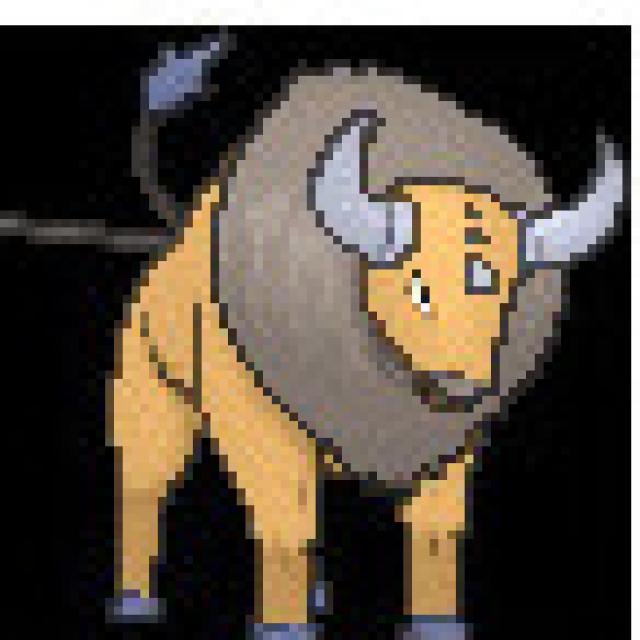Tauros: (120, 46, 585, 640)
